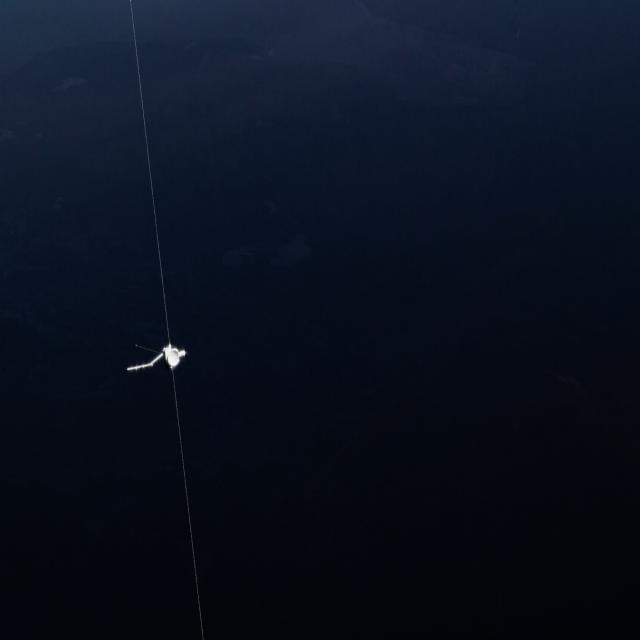satellite: (106, 6, 243, 640)
